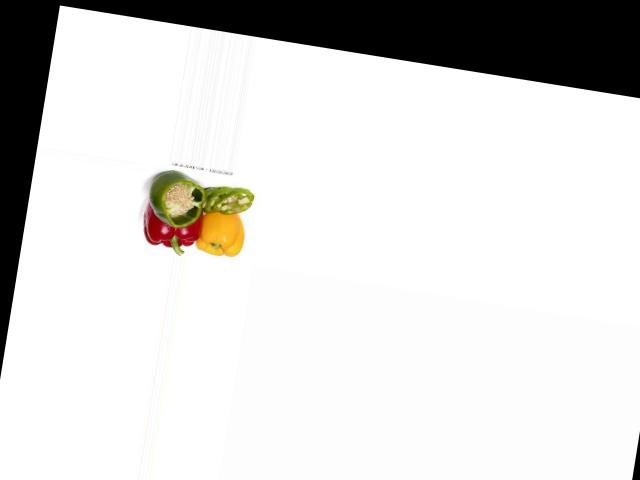bell_pepper: (139, 171, 208, 233)
